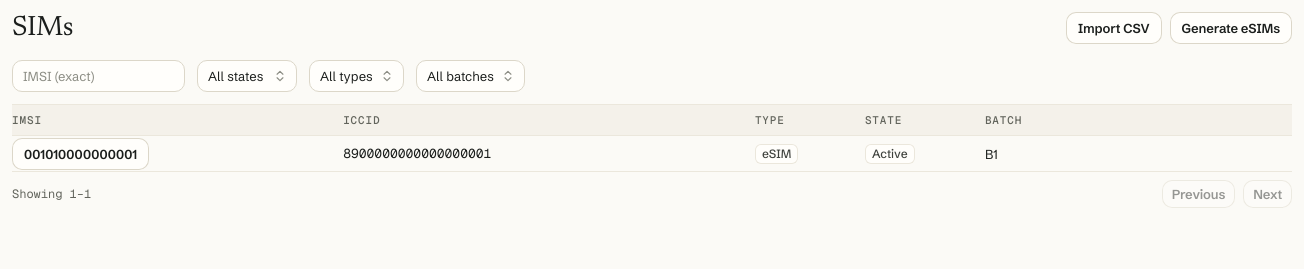
Scenario: SIM stock recovery › resets every filter from an empty filtered page back to the unfiltered list
The width and height of the screenshot is (1304, 269).
Expected: the button "001010000000001" is shown, [12, 138, 149, 170]
Select "Retired" in the dropdown named "State" at (247, 76), box [197, 60, 297, 92]
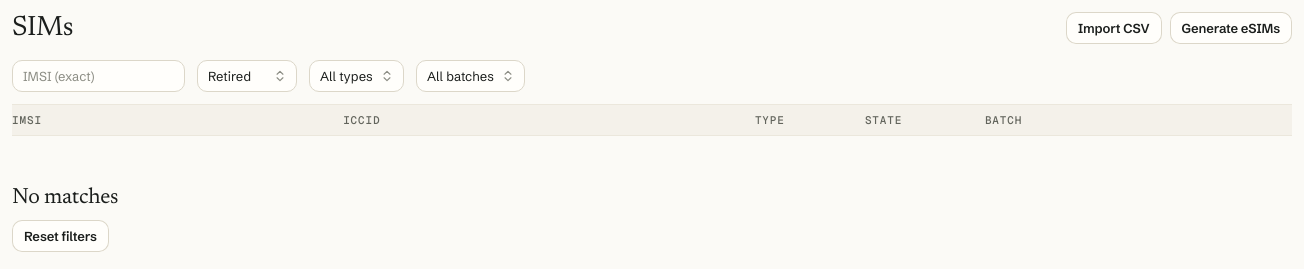
Now the text "No matches" is shown, box [12, 184, 118, 212]
Click the button "Reset filters".
click(60, 236)  # box [12, 220, 109, 252]
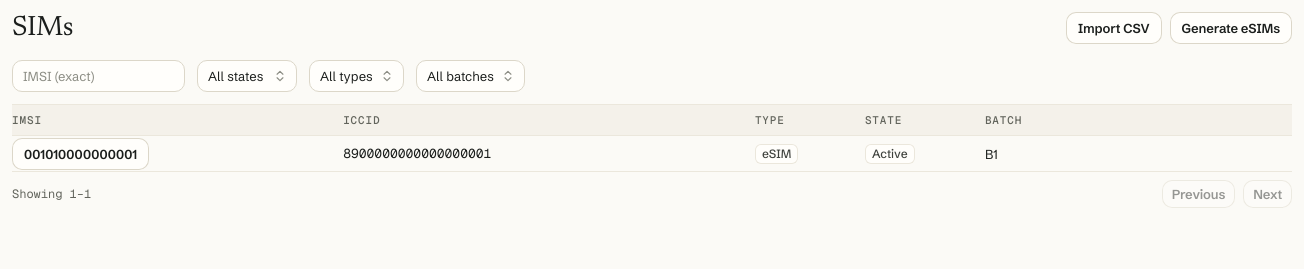
Expected: the dropdown named "Type" shows "All types", [309, 60, 404, 92]
Now the button "001010000000001" is shown, box [12, 138, 149, 170]
